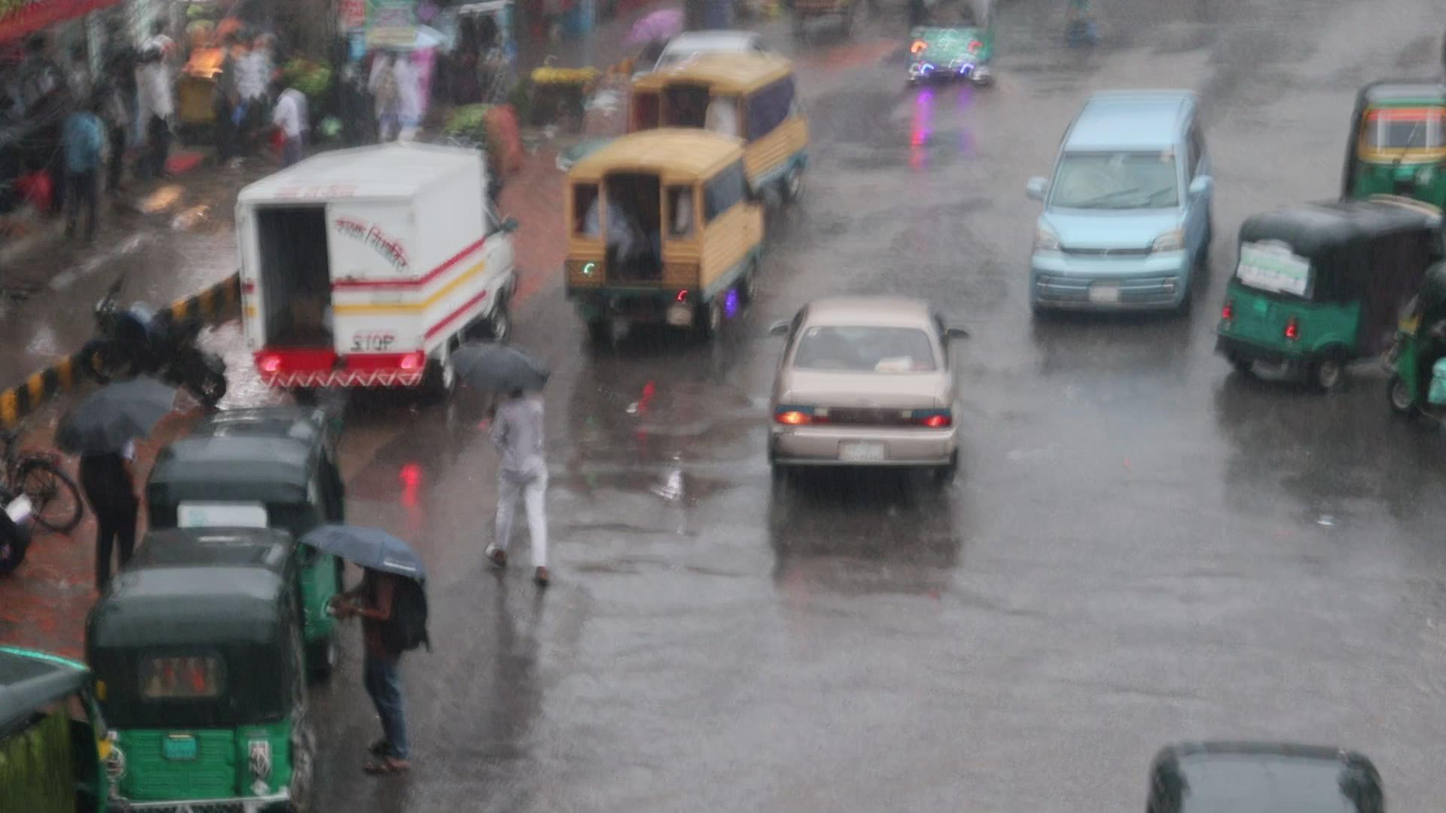Car: (1022, 82, 1216, 320), (767, 290, 975, 492)
Truck: (558, 126, 768, 339)
